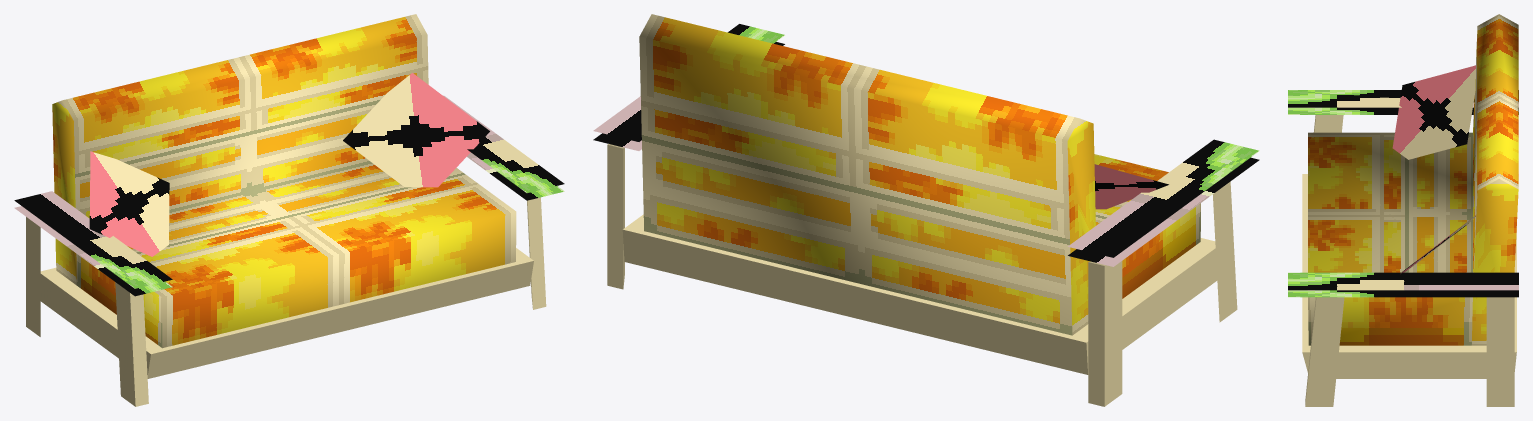
3 renders of one model, left to right at view 1: azimuth 30°, elevation 25°; view 2: azimuth 150°, elevation 25°; view 3: azimuth 270°, elevation 25°, orthographic. The views are drawn at different scales.
Parts seen in each view (by area): view 1: 3670kg_ga_sof; view 2: 3670kg_ga_sof; view 3: 3670kg_ga_sof.
Boxes of the visible parts, x1,y1,x2,y2 form: 3670kg_ga_sof: [14, 14, 564, 406]; 3670kg_ga_sof: [593, 14, 1259, 406]; 3670kg_ga_sof: [1288, 14, 1518, 406].
Bounding box in the file's own units: 1.95 × 0.9768 × 0.9502.
2 materials, 2 textured.
